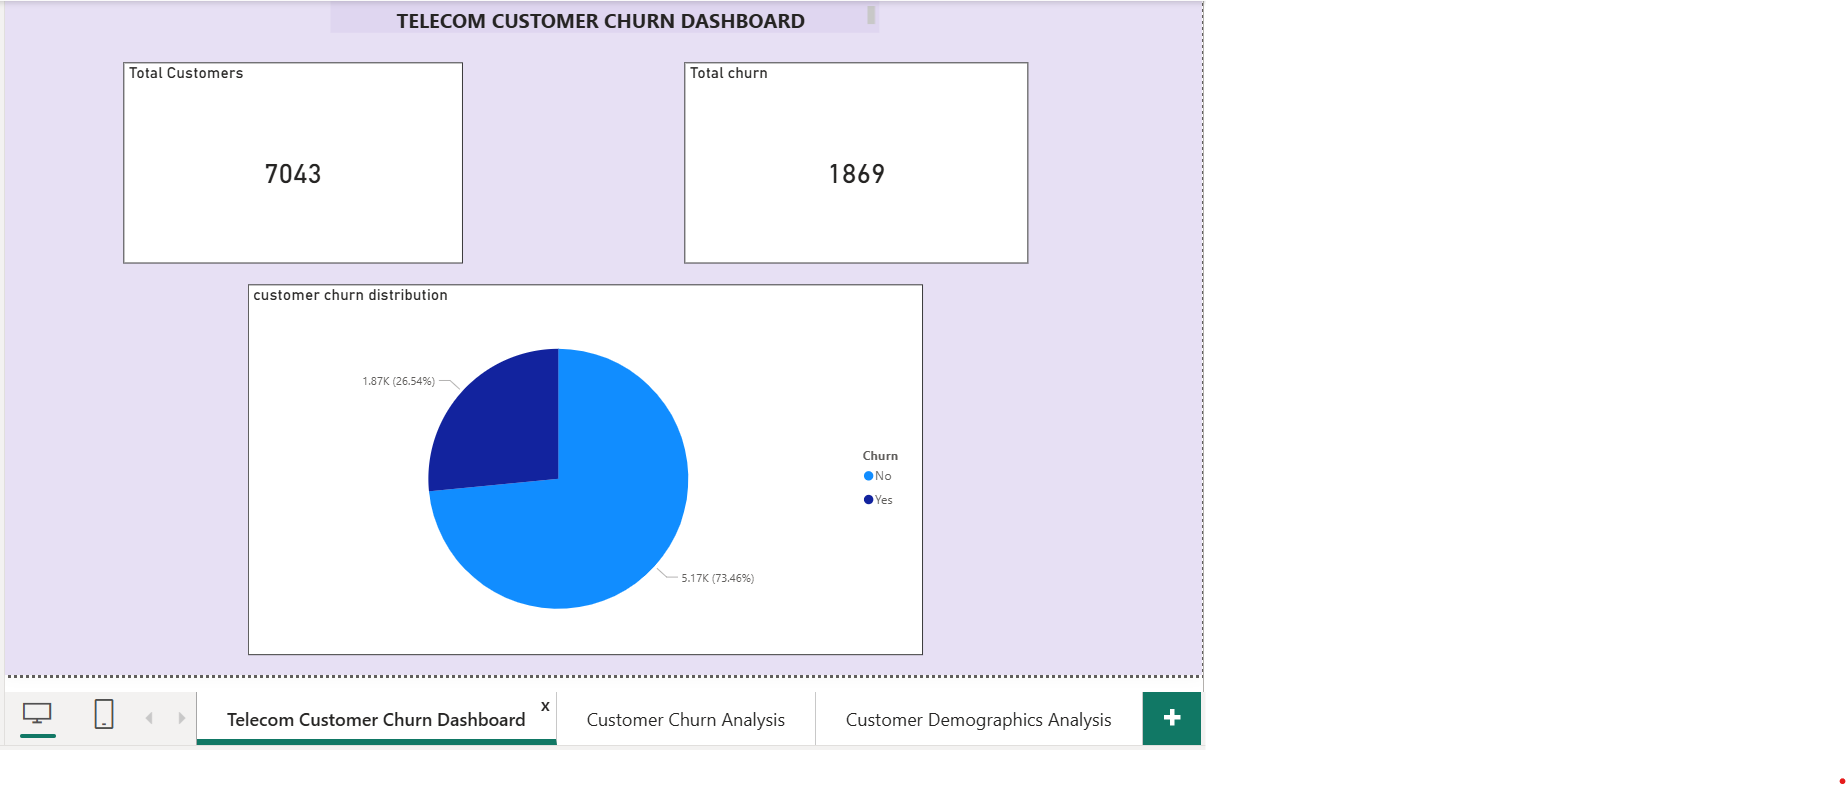

This screenshot's page, from the dashboard's own definition file:
{"tool":"powerbi","page":{"name":"Telecom Customer Churn Dashboard","canvas":[1280,720],"ordinal":0},"visuals":[{"type":"pieChart","title":"customer churn distribution","fields":{"Category":["WA_Fn-UseC_-Telco-Customer-Churn.Churn"],"Y":["CountNonNull(WA_Fn-UseC_-Telco-Customer-Churn.customerID)"]},"box":[259.7,303,721.5,396],"z":0},{"type":"card","title":"Total Customers","fields":{"Values":["CountNonNull(WA_Fn-UseC_-Telco-Customer-Churn.customerID)"]},"box":[126.7,65.7,362.4,214.8],"z":1000},{"type":"card","title":"Total churn","fields":{"Values":["CountNonNull(WA_Fn-UseC_-Telco-Customer-Churn.customerID)"]},"box":[726.3,65.7,367.2,214.8],"z":2000},{"type":"textbox","box":[347.9,0,586.8,33.7],"z":3000}]}

Visuals, with their boxes on the page's 1280x720 design canvas (x1, y1, x2, y2). These are canvas units, not pixel positions in the 1847x785 screenshot, which may show the page scaled, cropped or inside an application window:
"customer churn distribution" pieChart: {"left": 260, "top": 303, "right": 981, "bottom": 699}
"Total Customers" card: {"left": 127, "top": 66, "right": 489, "bottom": 280}
"Total churn" card: {"left": 726, "top": 66, "right": 1094, "bottom": 280}
textbox: {"left": 348, "top": 0, "right": 935, "bottom": 34}
